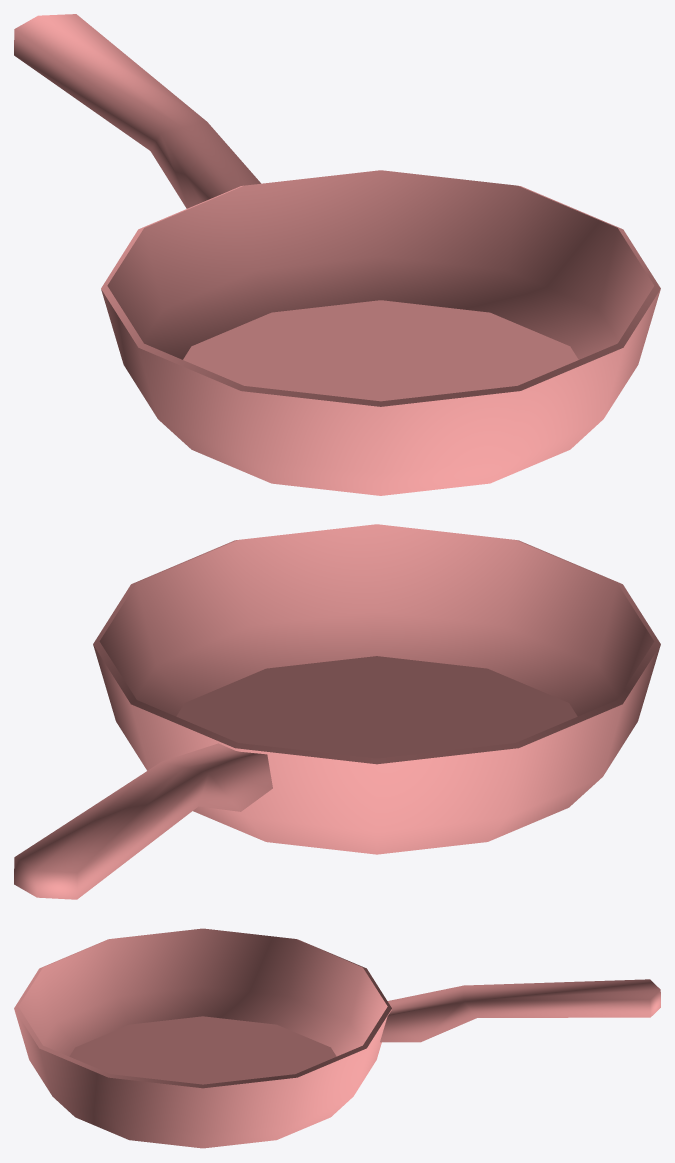
The model's file is TFYK_deep_pan.FBX.
3 views of the same model, one above another, from view 1: azimuth 30°, elevation 25°; view 2: azimuth 150°, elevation 25°; view 3: azimuth 270°, elevation 25° (orthographic). The views are drawn at different scales.
Visible parts, largest first — view 1: TFYK_deep_pan; view 2: TFYK_deep_pan; view 3: TFYK_deep_pan.
Boxes of the visible parts, x1,y1,x2,y2 form: TFYK_deep_pan: (14, 14, 660, 495); TFYK_deep_pan: (14, 524, 660, 899); TFYK_deep_pan: (14, 928, 660, 1148).
Bounding box in the file's own units: 0.199 × 0.0552 × 0.3405.
